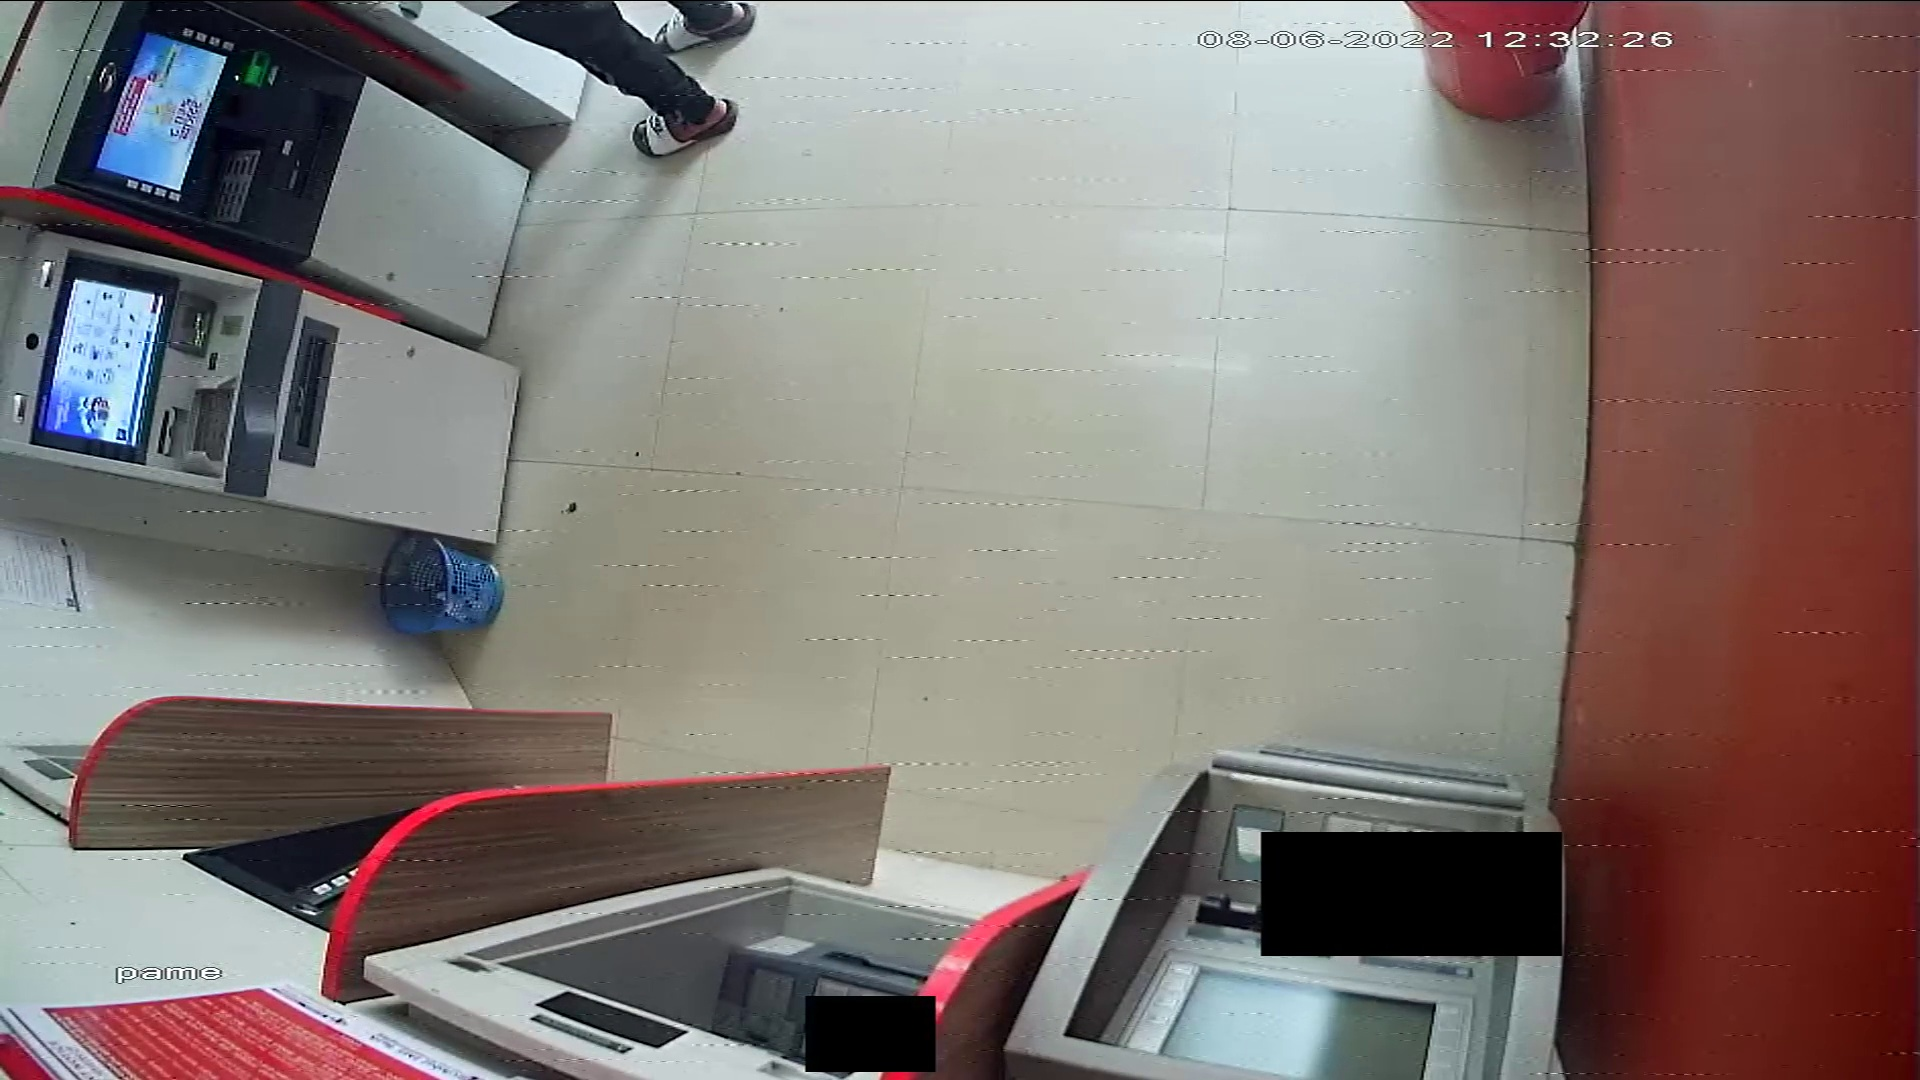person: (452, 4, 766, 160)
